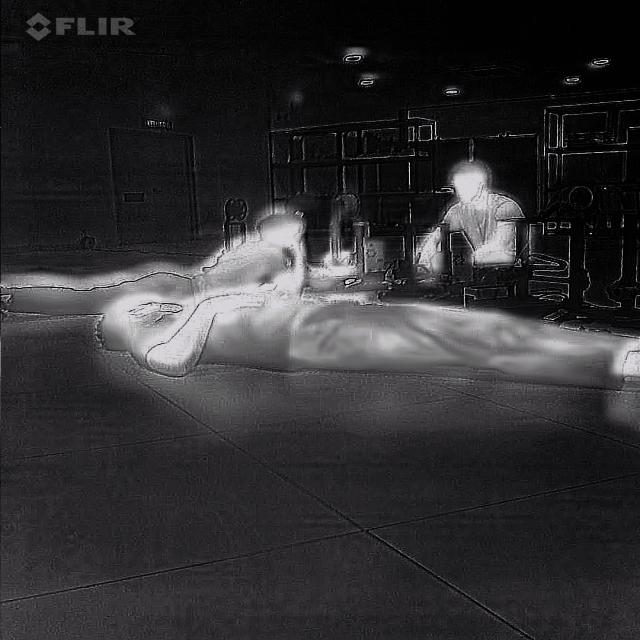Victim: (96, 289, 638, 383), (0, 205, 309, 316), (422, 156, 528, 284)
